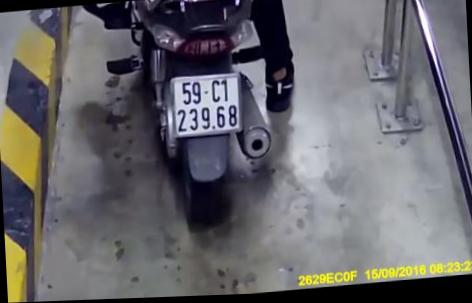LP: (168, 72, 244, 140)
